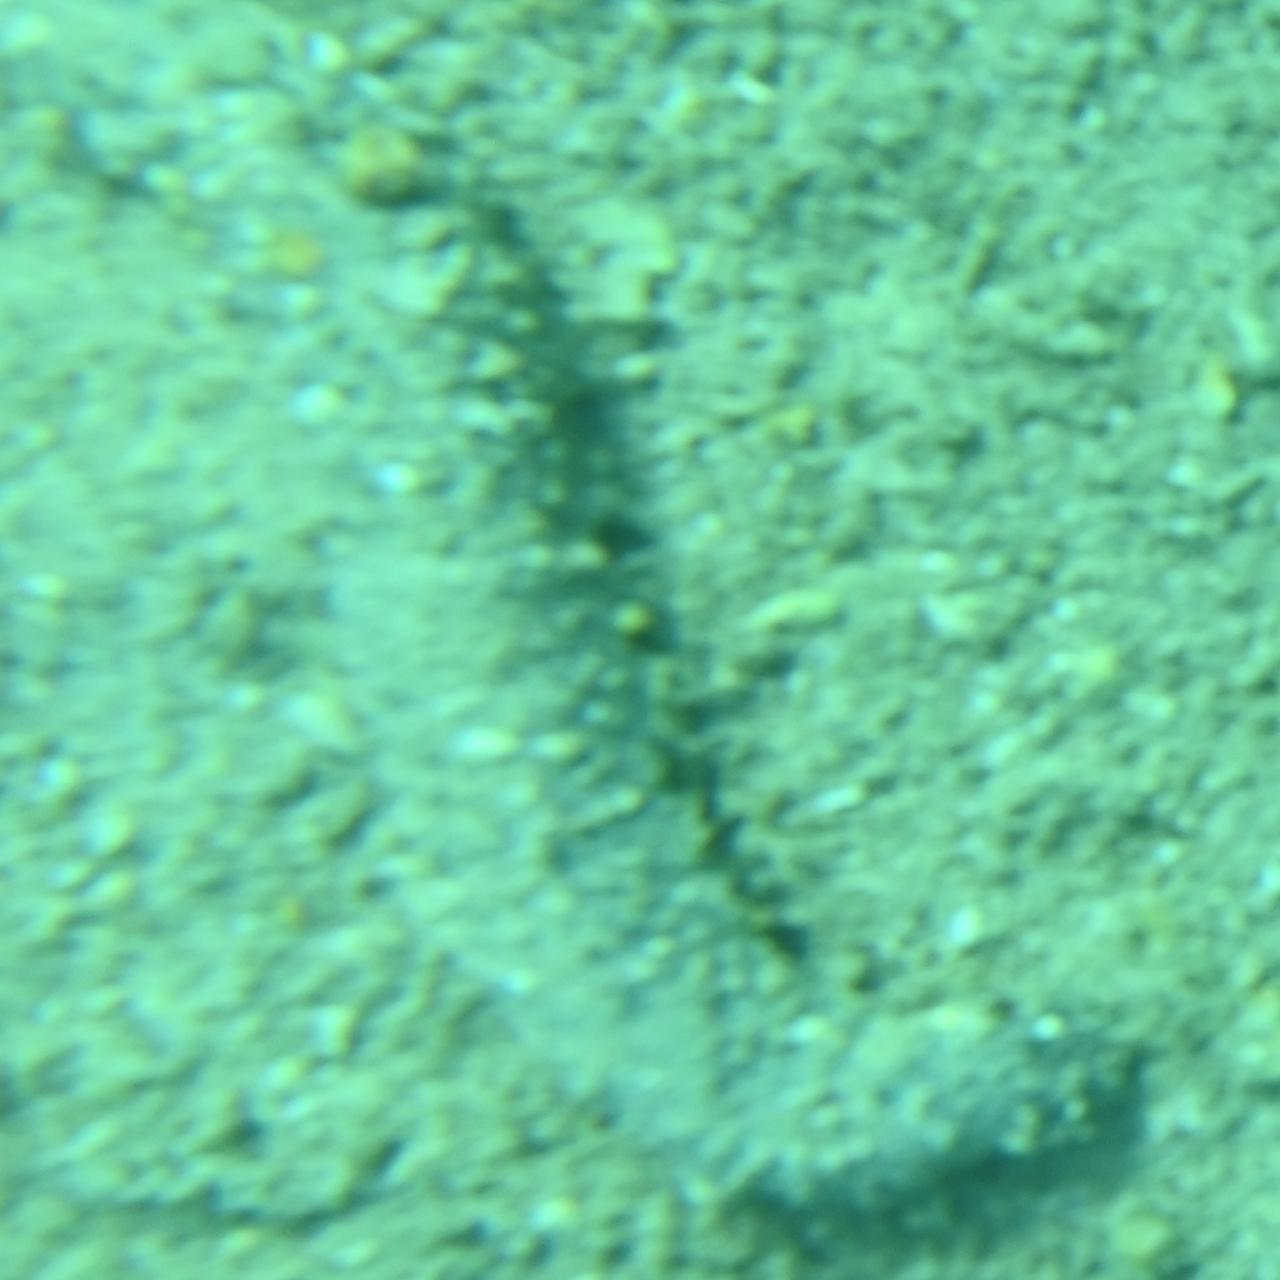Holothuria tubulosa: (97, 0, 1183, 1280)
